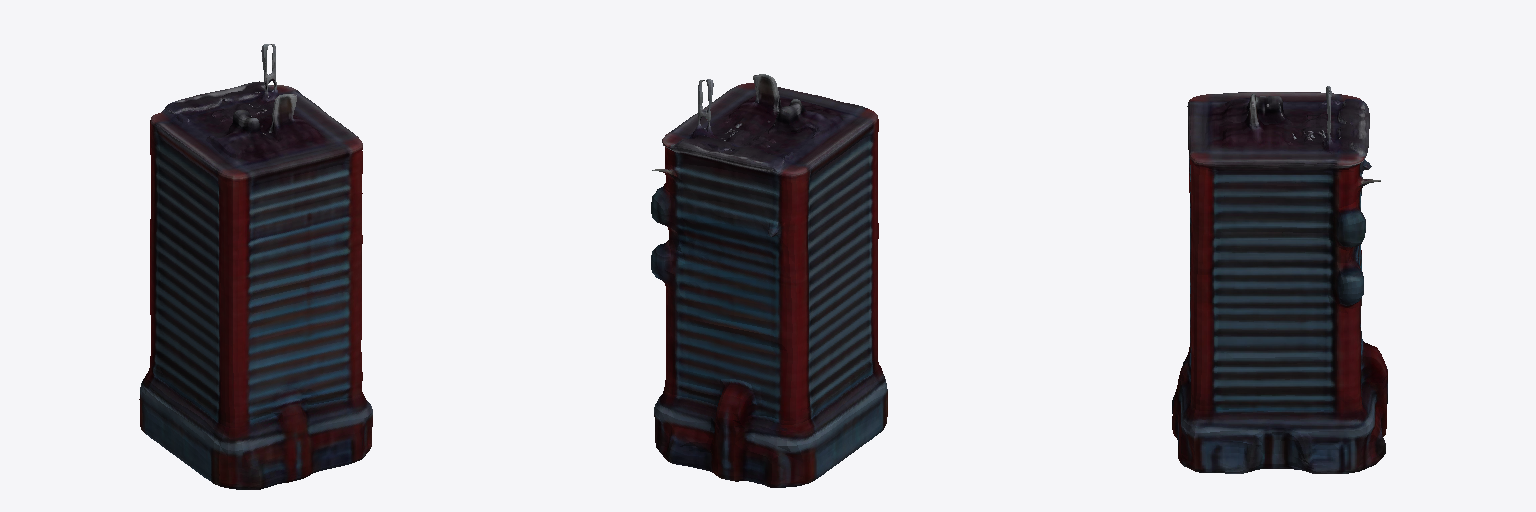
The picture shows the model from 3 angles: view 1: azimuth 30°, elevation 25°; view 2: azimuth 150°, elevation 25°; view 3: azimuth 270°, elevation 25°; orthographic projection.
Visible parts, largest first — view 1: mesh; view 2: mesh; view 3: mesh.
Boxes of the visible parts, x1=… form: mesh: x1=139, y1=44, x2=372, y2=489; mesh: x1=651, y1=74, x2=887, y2=487; mesh: x1=1172, y1=86, x2=1387, y2=473.
Bounding box in the file's own units: 0.4541 × 0.9954 × 0.5257.
Materials: 1 (1 with a texture image).